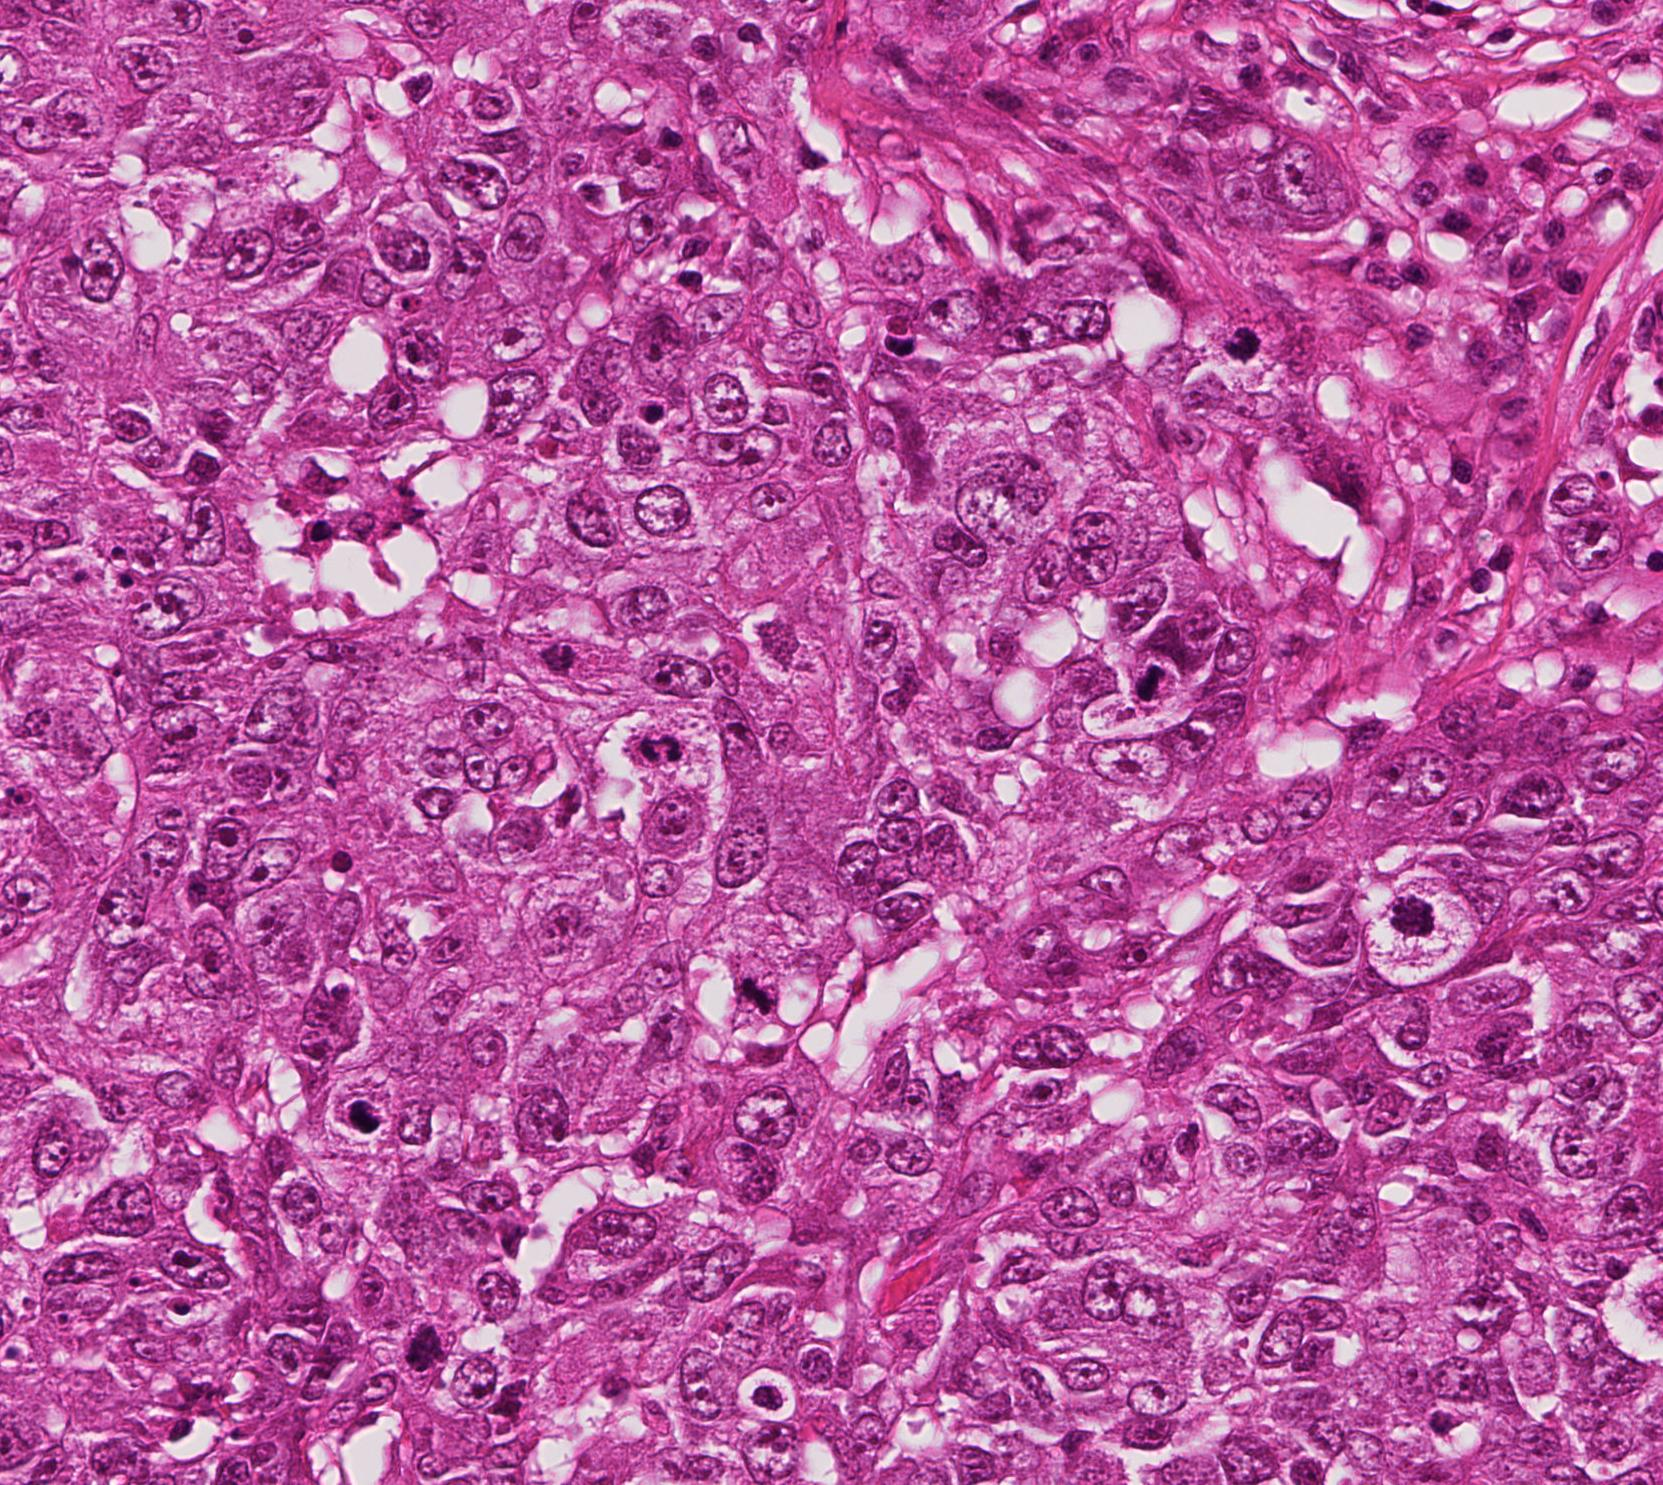mitosis: (629, 712, 690, 773), (1371, 887, 1429, 947), (1123, 649, 1181, 710), (1219, 315, 1277, 376), (720, 949, 778, 1009), (519, 631, 579, 689)
